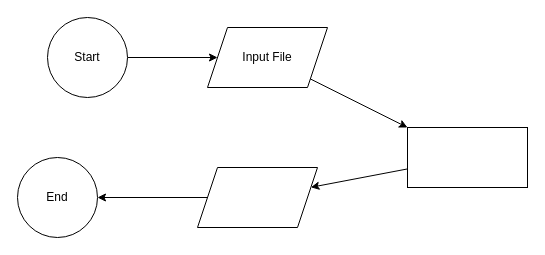
Some shapes in this 545 by 255 pixel diagram are drawn without their labels. The centre of each missing label's shape, as x and y in pixels:
Output file from S3: point (257, 197)
Upload File in S3: point (467, 157)
